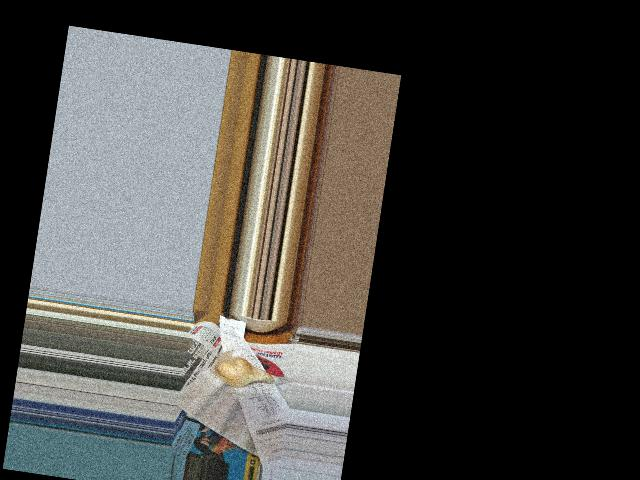onion: (213, 355, 271, 390)
